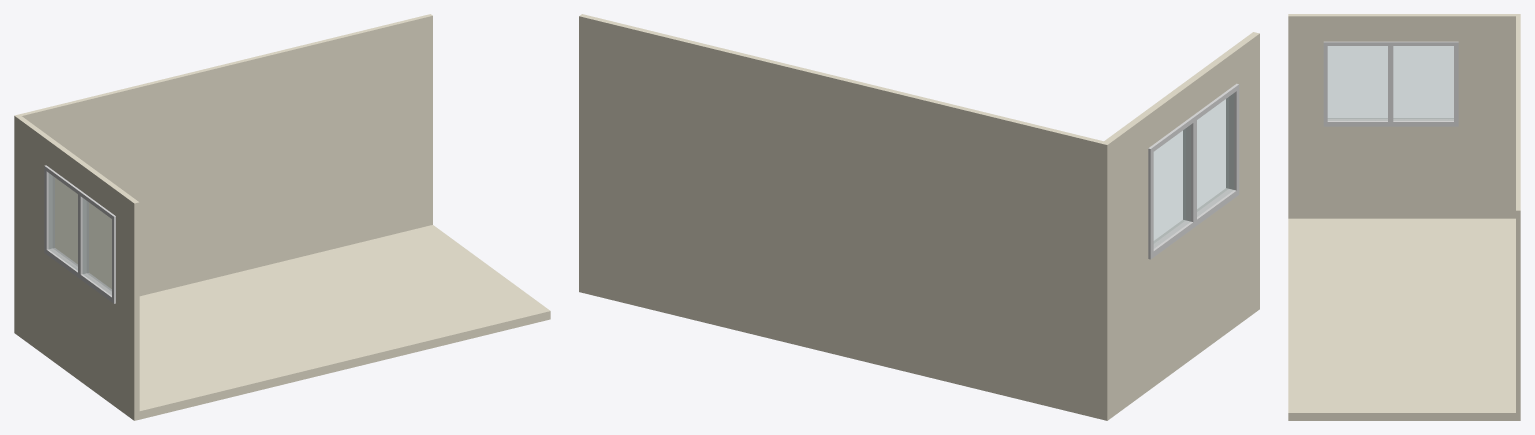
The model's file is WindowAndWall.fbx.
The picture shows the model from 3 angles, left to right: view 1: azimuth 30°, elevation 25°; view 2: azimuth 150°, elevation 25°; view 3: azimuth 270°, elevation 25°; orthographic projection. The views are drawn at different scales.
Parts seen in each view (by area): view 1: Floor, WindowLeft.001, WindowFrame.001; view 2: Floor, WindowLeft.001, WindowFrame.001; view 3: Floor, WindowLeft.001, WindowFrame.001.
Part boxes in pixels (x1=…): Floor: x1=14, y1=14, x2=550, y2=420; WindowLeft.001: x1=49, y1=173, x2=111, y2=294; WindowFrame.001: x1=44, y1=165, x2=115, y2=303; Floor: x1=579, y1=14, x2=1259, y2=420; WindowLeft.001: x1=1154, y1=93, x2=1233, y2=247; WindowFrame.001: x1=1148, y1=83, x2=1239, y2=259; Floor: x1=1288, y1=14, x2=1520, y2=420; WindowLeft.001: x1=1328, y1=46, x2=1453, y2=120; WindowFrame.001: x1=1323, y1=41, x2=1458, y2=126.
Bounding box in the file's own units: 502 × 250 × 250.
